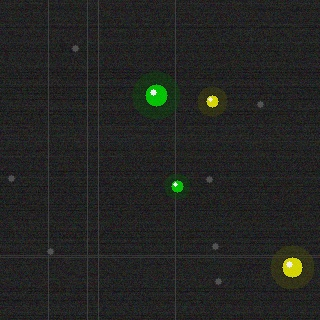green_normal: (143, 82, 169, 108), (169, 178, 185, 194)
yellow_warning: (280, 255, 304, 279), (204, 93, 220, 109)
